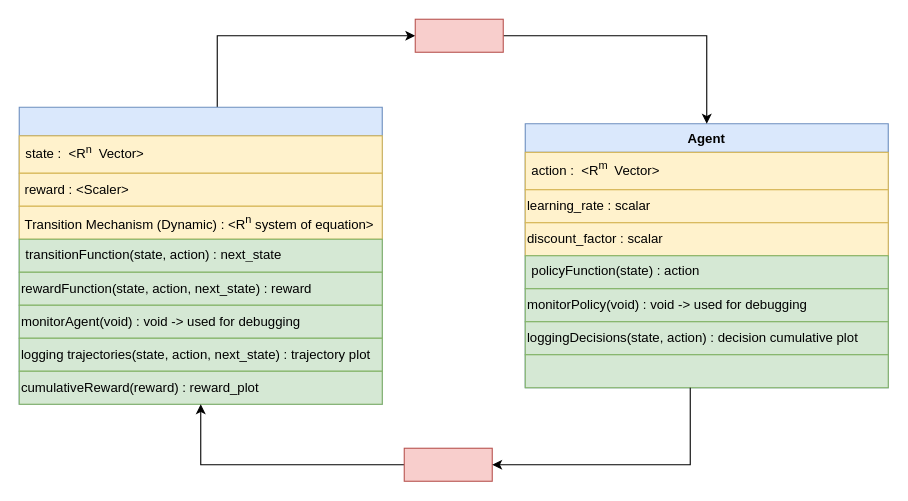
Some shapes in this 908 by 501 pixel diagram are drawn without their labels. Each missing label, with the box of its shape:
action: (403, 447, 492, 481)
cumulativepolicy(policy) : reward_plot: (524, 354, 888, 388)
Environement: (18, 106, 382, 404)
Reward Observation: (414, 18, 503, 52)
